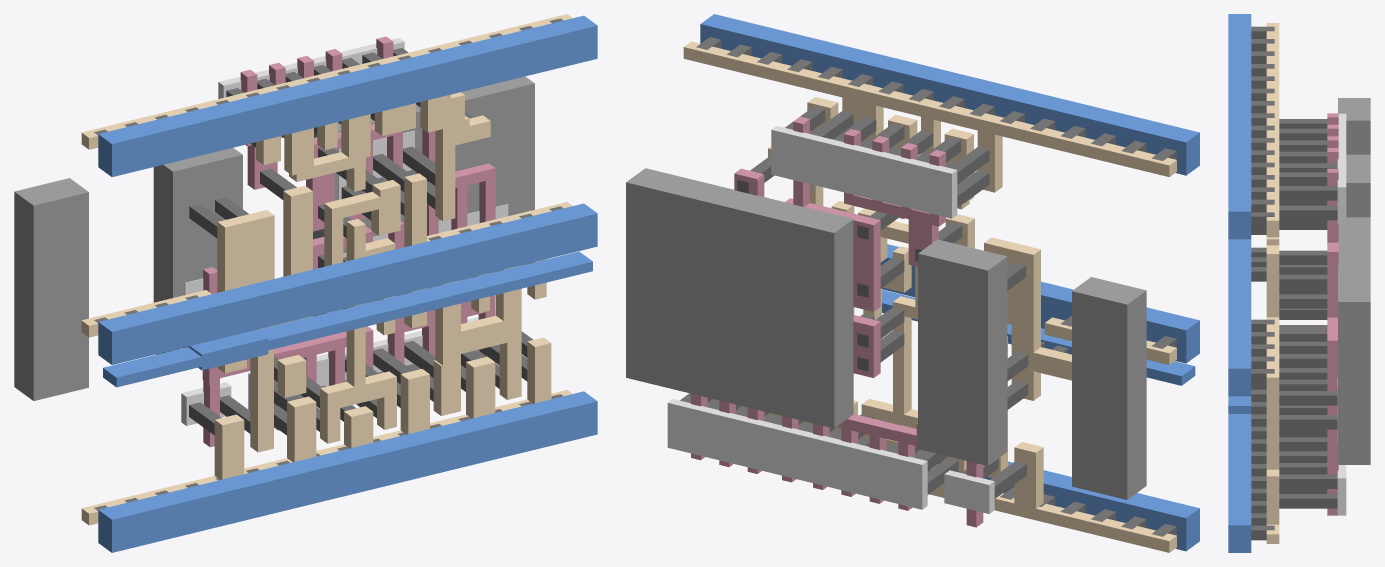
The model's file is sky130_fd_sc_hd__lpflow_lsbuf_lh_isowell_4.gds.gltf.
3 renders of one model, left to right at view 1: azimuth 30°, elevation 25°; view 2: azimuth 150°, elevation 25°; view 3: azimuth 270°, elevation 25°, orthographic. The views are drawn at different scales.
Parts seen in each view (by area): view 1: sky130_fd_sc_hd__lpflow_lsbuf_lh_isowell_4_met1, sky130_fd_sc_hd__lpflow_lsbuf_lh_isowell_4_li1, sky130_fd_sc_hd__lpflow_lsbuf_lh_isowell_4_nwell, sky130_fd_sc_hd__lpflow_lsbuf_lh_isowell_4_poly, sky130_fd_sc_hd__lpflow_lsbuf_lh_isowell_4_licon, sky130_fd_sc_hd__lpflow_lsbuf_lh_isowell_4_diff, sky130_fd_sc_hd__lpflow_lsbuf_lh_isowell_4_mcon; view 2: sky130_fd_sc_hd__lpflow_lsbuf_lh_isowell_4_nwell, sky130_fd_sc_hd__lpflow_lsbuf_lh_isowell_4_li1, sky130_fd_sc_hd__lpflow_lsbuf_lh_isowell_4_diff, sky130_fd_sc_hd__lpflow_lsbuf_lh_isowell_4_met1, sky130_fd_sc_hd__lpflow_lsbuf_lh_isowell_4_poly, sky130_fd_sc_hd__lpflow_lsbuf_lh_isowell_4_licon, sky130_fd_sc_hd__lpflow_lsbuf_lh_isowell_4_mcon; view 3: sky130_fd_sc_hd__lpflow_lsbuf_lh_isowell_4_licon, sky130_fd_sc_hd__lpflow_lsbuf_lh_isowell_4_met1, sky130_fd_sc_hd__lpflow_lsbuf_lh_isowell_4_nwell, sky130_fd_sc_hd__lpflow_lsbuf_lh_isowell_4_mcon, sky130_fd_sc_hd__lpflow_lsbuf_lh_isowell_4_li1, sky130_fd_sc_hd__lpflow_lsbuf_lh_isowell_4_poly, sky130_fd_sc_hd__lpflow_lsbuf_lh_isowell_4_diff.
Part boxes in pixels (x1,y1,x2,y2): sky130_fd_sc_hd__lpflow_lsbuf_lh_isowell_4_met1: [98, 15, 597, 552]; sky130_fd_sc_hd__lpflow_lsbuf_lh_isowell_4_li1: [81, 14, 572, 525]; sky130_fd_sc_hd__lpflow_lsbuf_lh_isowell_4_nwell: [14, 76, 534, 400]; sky130_fd_sc_hd__lpflow_lsbuf_lh_isowell_4_poly: [202, 36, 495, 447]; sky130_fd_sc_hd__lpflow_lsbuf_lh_isowell_4_licon: [189, 48, 533, 435]; sky130_fd_sc_hd__lpflow_lsbuf_lh_isowell_4_diff: [181, 38, 508, 425]; sky130_fd_sc_hd__lpflow_lsbuf_lh_isowell_4_mcon: [94, 18, 563, 510]; sky130_fd_sc_hd__lpflow_lsbuf_lh_isowell_4_nwell: [626, 168, 1146, 499]; sky130_fd_sc_hd__lpflow_lsbuf_lh_isowell_4_li1: [683, 41, 1176, 552]; sky130_fd_sc_hd__lpflow_lsbuf_lh_isowell_4_diff: [667, 126, 994, 513]; sky130_fd_sc_hd__lpflow_lsbuf_lh_isowell_4_met1: [700, 14, 1199, 551]; sky130_fd_sc_hd__lpflow_lsbuf_lh_isowell_4_poly: [691, 116, 983, 527]; sky130_fd_sc_hd__lpflow_lsbuf_lh_isowell_4_licon: [680, 106, 1028, 498]; sky130_fd_sc_hd__lpflow_lsbuf_lh_isowell_4_mcon: [696, 37, 1176, 536]; sky130_fd_sc_hd__lpflow_lsbuf_lh_isowell_4_licon: [1279, 119, 1337, 508]; sky130_fd_sc_hd__lpflow_lsbuf_lh_isowell_4_met1: [1228, 14, 1251, 552]; sky130_fd_sc_hd__lpflow_lsbuf_lh_isowell_4_nwell: [1338, 98, 1370, 464]; sky130_fd_sc_hd__lpflow_lsbuf_lh_isowell_4_mcon: [1251, 26, 1274, 540]; sky130_fd_sc_hd__lpflow_lsbuf_lh_isowell_4_li1: [1266, 23, 1279, 543]; sky130_fd_sc_hd__lpflow_lsbuf_lh_isowell_4_poly: [1327, 113, 1338, 515]; sky130_fd_sc_hd__lpflow_lsbuf_lh_isowell_4_diff: [1337, 113, 1346, 515].
Bounding box in the file's own units: 7.59 × 5.92 × 2.24.
